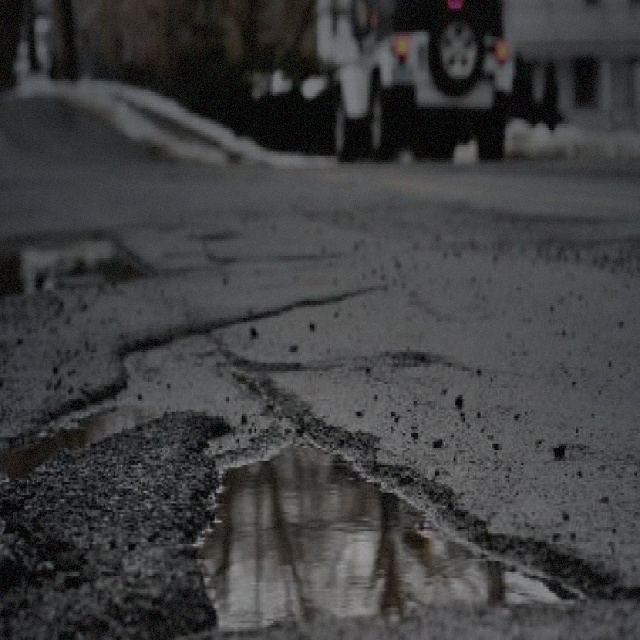pothole: (188, 414, 600, 631), (0, 317, 274, 486), (0, 226, 156, 300)
